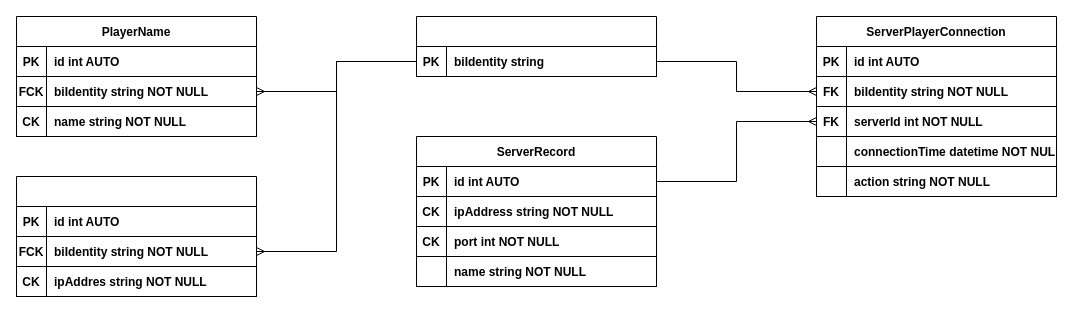
This 1079x313 diagram has some shape labels left out. Each missing label, with the box of its shape:
PlayerIp: (16, 176, 256, 296)
PlayerRecord: (416, 16, 656, 76)
